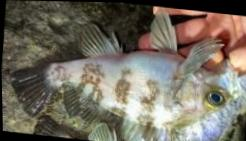fish: (9, 12, 237, 141)
